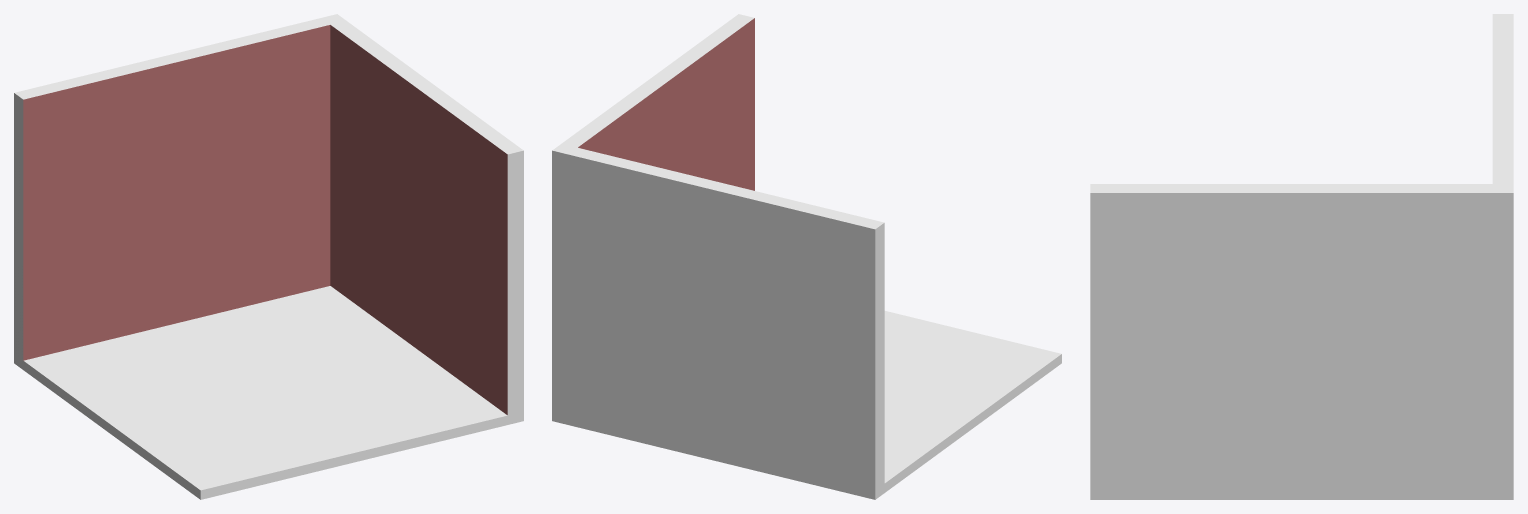
File: Wall_11.fbx
3 renders of one model, left to right at view 1: azimuth 30°, elevation 25°; view 2: azimuth 150°, elevation 25°; view 3: azimuth 270°, elevation 25°, orthographic. The views are drawn at different scales.
Visible parts, largest first — view 1: Wall_11; view 2: Wall_11; view 3: Wall_11.
Part boxes in pixels (left/top/right/bottom): Wall_11: left=14, top=14, right=523, bottom=499; Wall_11: left=552, top=14, right=1061, bottom=499; Wall_11: left=1090, top=14, right=1513, bottom=499.
Bounding box in the file's own units: 3.8 × 3.04 × 3.8.
